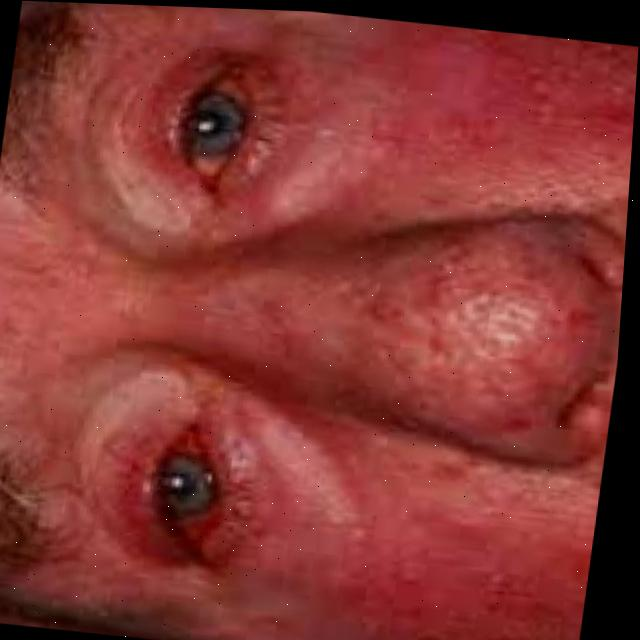Rosacea: (294, 11, 640, 194), (236, 225, 556, 410), (328, 445, 602, 640)
